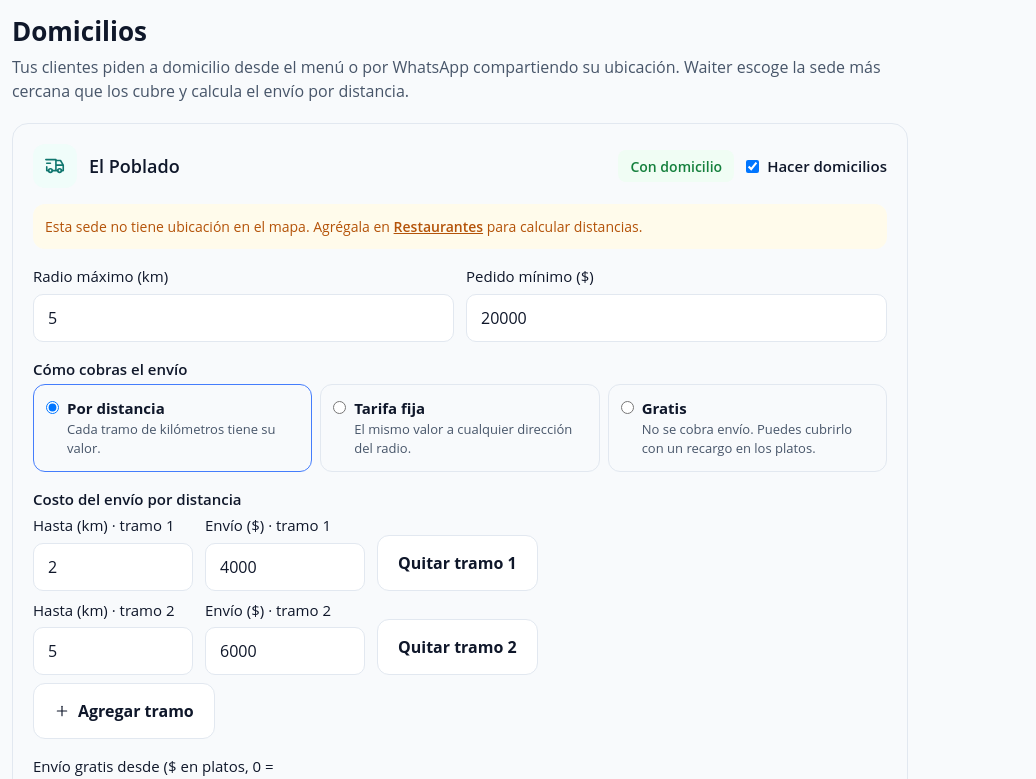
it: no deja guardar una configuración que no sirve
Click the checkbox labelled "Hacer domicilios" at [753, 166], box [746,160,759,172]
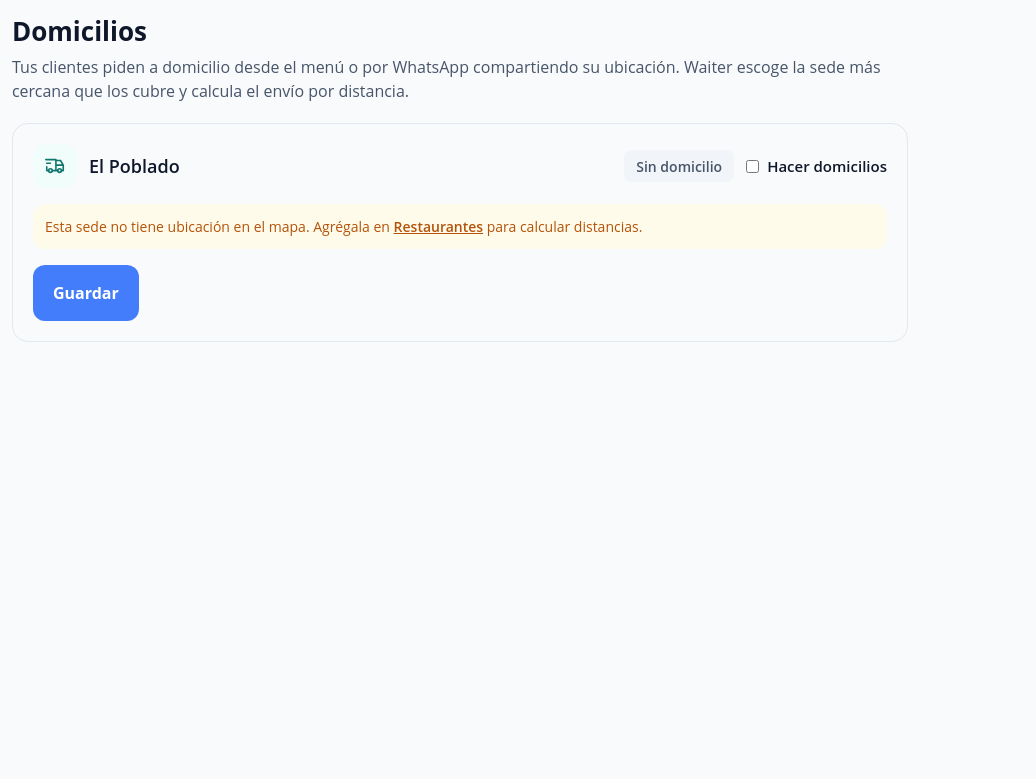
Check: the button "Guardar" is enabled, box [33,265,139,321]
